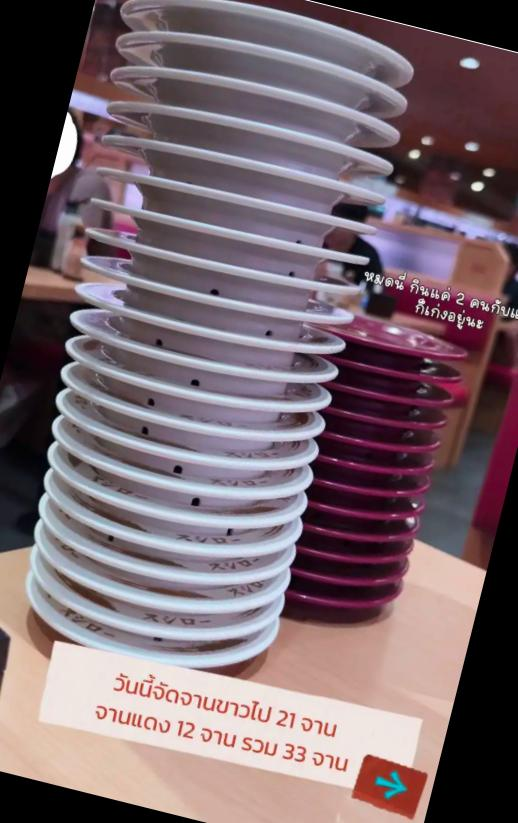Janred: (360, 317, 471, 374), (347, 346, 462, 396), (298, 574, 396, 624), (299, 531, 409, 574), (338, 423, 444, 467), (328, 485, 420, 534), (345, 375, 444, 419), (344, 402, 444, 444), (336, 445, 429, 490), (332, 470, 425, 512), (320, 512, 408, 554), (310, 554, 402, 594)
Janwhite: (121, 52, 398, 152), (107, 126, 384, 224), (103, 159, 372, 257), (134, 16, 401, 113), (116, 90, 384, 185), (96, 192, 350, 286), (97, 230, 344, 321), (97, 266, 338, 354), (143, 0, 413, 75), (70, 415, 305, 498), (47, 525, 259, 609), (100, 300, 316, 376), (98, 324, 295, 406), (73, 384, 286, 457), (69, 450, 280, 522), (39, 619, 249, 690), (68, 474, 260, 550), (54, 563, 257, 632), (101, 364, 297, 434), (52, 586, 237, 654), (76, 514, 252, 577)
